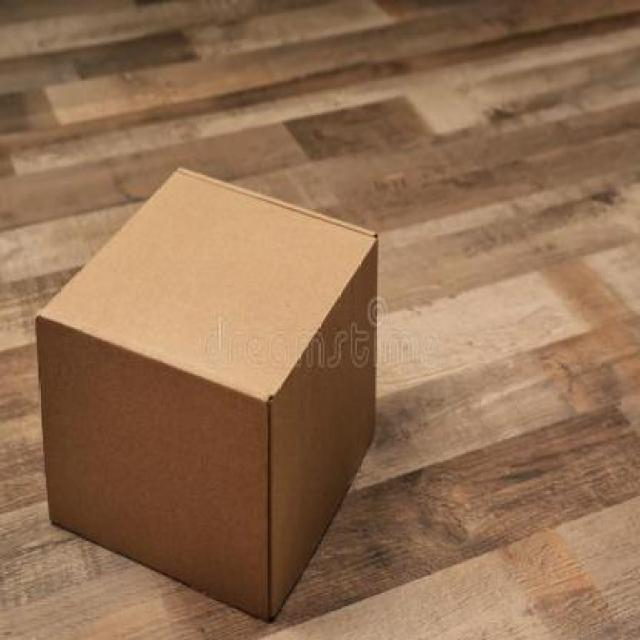box: (6, 107, 405, 640)
